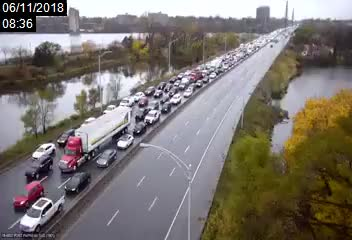congestion: (15, 118, 142, 234), (91, 82, 187, 127), (156, 66, 223, 91), (202, 52, 234, 70)
personal_car: (20, 193, 66, 233), (12, 181, 46, 208), (24, 157, 54, 180), (64, 172, 92, 194), (31, 143, 57, 161), (96, 147, 117, 168), (115, 132, 134, 151), (57, 128, 76, 144), (144, 109, 160, 124), (132, 120, 146, 137), (118, 96, 135, 108), (80, 116, 97, 128), (134, 107, 150, 119), (102, 103, 116, 115), (182, 88, 194, 99), (169, 93, 181, 104), (147, 101, 160, 111), (161, 101, 171, 113), (133, 91, 145, 101), (156, 80, 166, 90), (138, 96, 147, 106), (163, 82, 172, 91), (169, 87, 178, 96), (201, 75, 210, 83), (153, 89, 162, 97), (145, 86, 153, 95), (177, 82, 187, 89), (176, 72, 184, 79), (169, 75, 176, 83), (195, 80, 203, 86)
truck: (58, 106, 132, 173), (188, 70, 202, 82)
